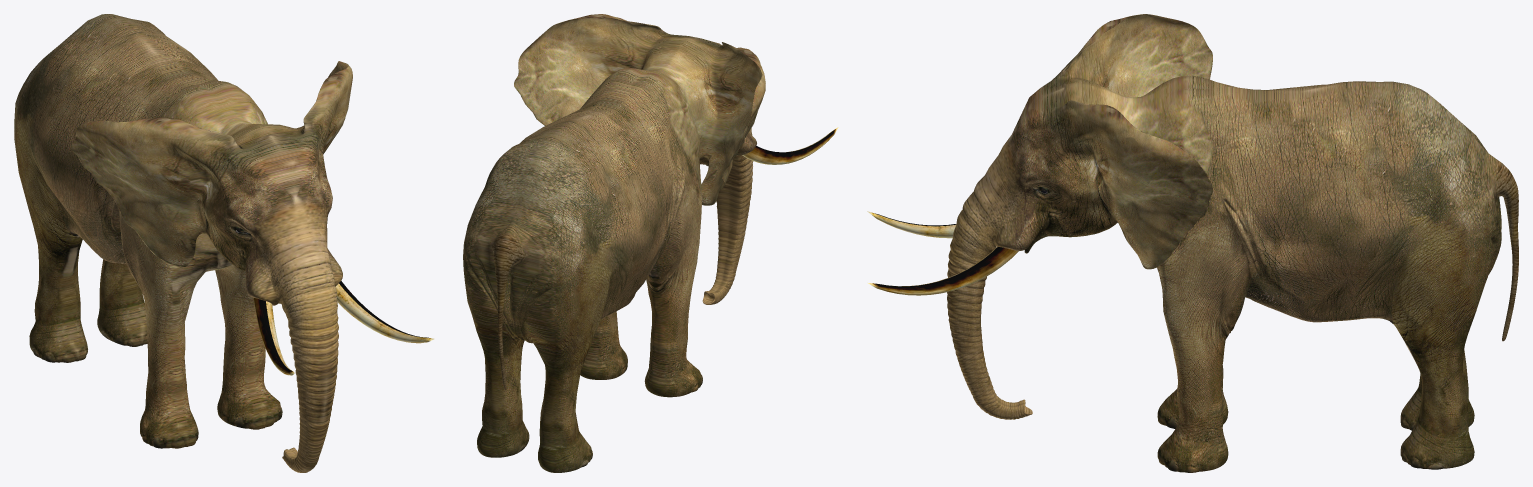
Rendered from asset.glb.
The picture shows the model from 3 angles, left to right: view 1: azimuth 30°, elevation 25°; view 2: azimuth 150°, elevation 25°; view 3: azimuth 270°, elevation 25°; orthographic projection. The views are drawn at different scales.
Parts seen in each view (by area): view 1: 3DSMeshMatrix (×3); view 2: 3DSMeshMatrix (×2); view 3: 3DSMeshMatrix (×3).
Boxes of the visible parts, box(x1,y1,x2,y2) form: 3DSMeshMatrix (×3): box(14, 14, 433, 472); 3DSMeshMatrix (×2): box(463, 14, 838, 472); 3DSMeshMatrix (×3): box(867, 14, 1518, 472).
Bounding box in the file's own units: 546 × 717 × 1132.
3 materials, 2 textured.
